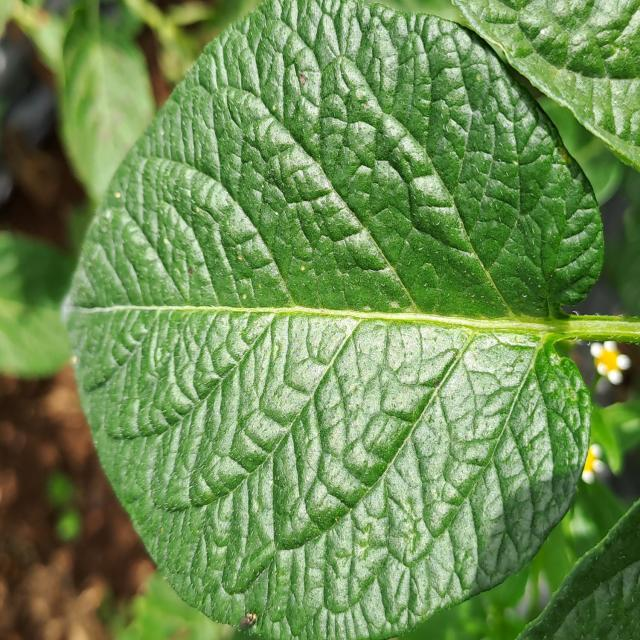healthy: (59, 2, 619, 637)
